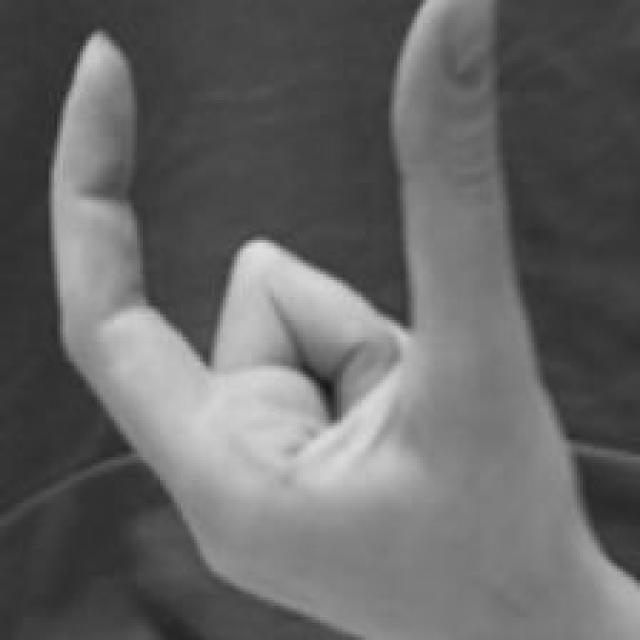U: (43, 0, 583, 626)
